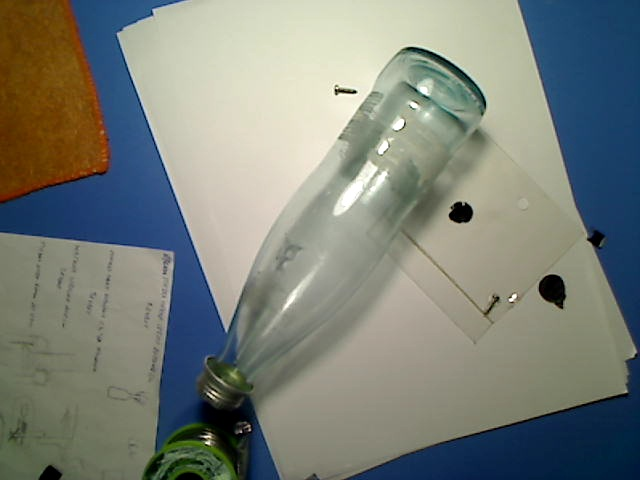bottle: (192, 45, 491, 413)
